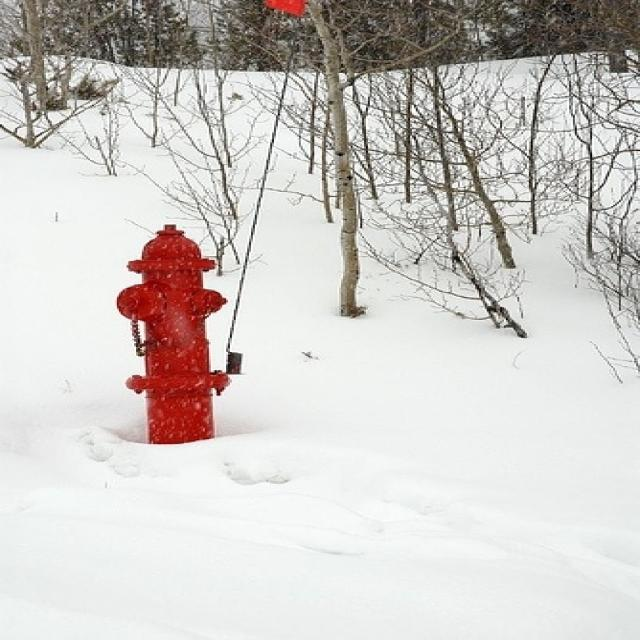fire_hydrant: (60, 196, 253, 482)
